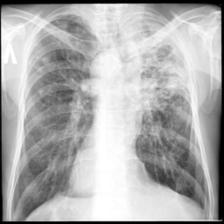tuberculosis: (6, 13, 216, 221)
